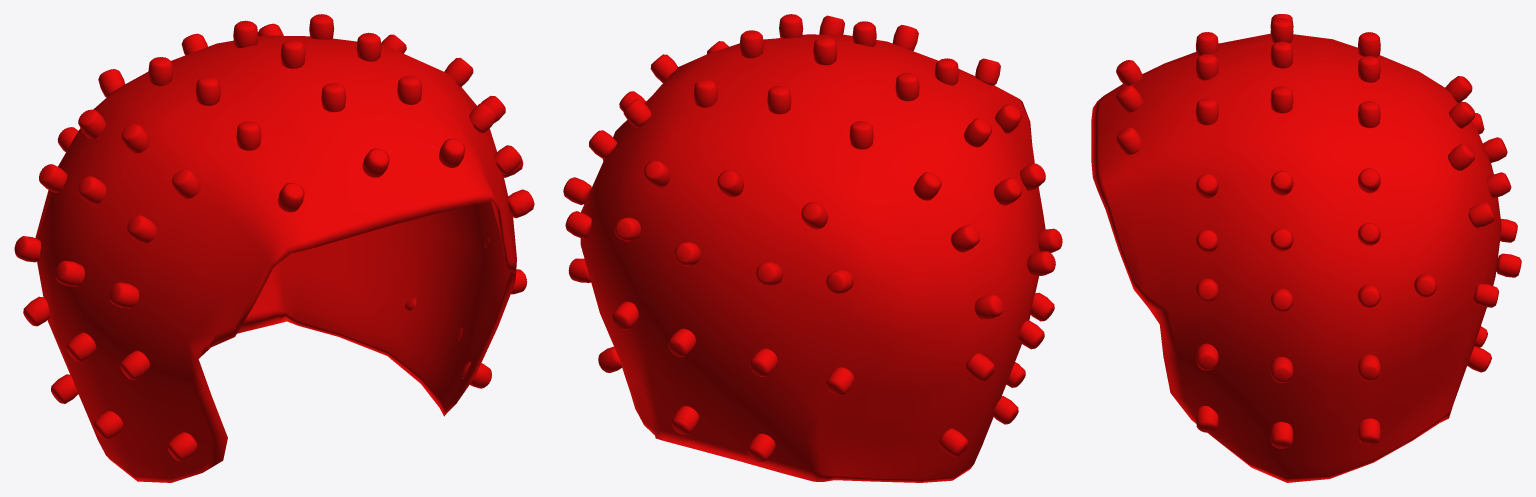
Rendered from Cap_high.fbx.
3 views of the same model, side by side, from view 1: azimuth 30°, elevation 25°; view 2: azimuth 150°, elevation 25°; view 3: azimuth 270°, elevation 25° (orthographic). The views are drawn at different scales.
Visible parts, largest first — view 1: Cap_high; view 2: Cap_high; view 3: Cap_high.
Part boxes in pixels (x1,y1,x2,y2): Cap_high: (14, 14, 534, 482); Cap_high: (563, 14, 1062, 482); Cap_high: (1091, 14, 1521, 482).
Size of the model in its own units: 1.38 by 1.15 by 1.21.
